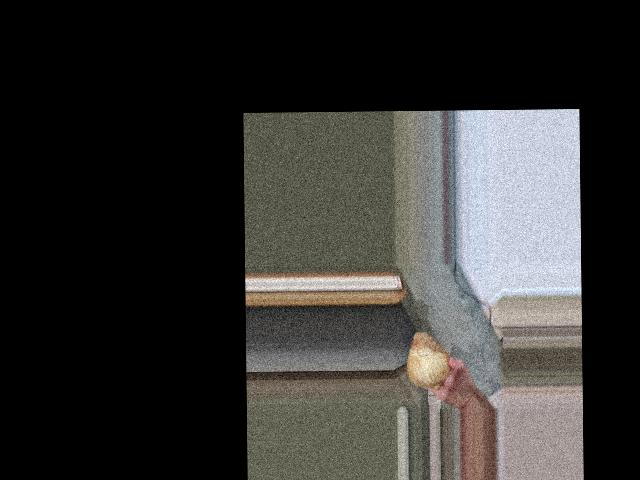onion: (409, 330, 452, 386)
